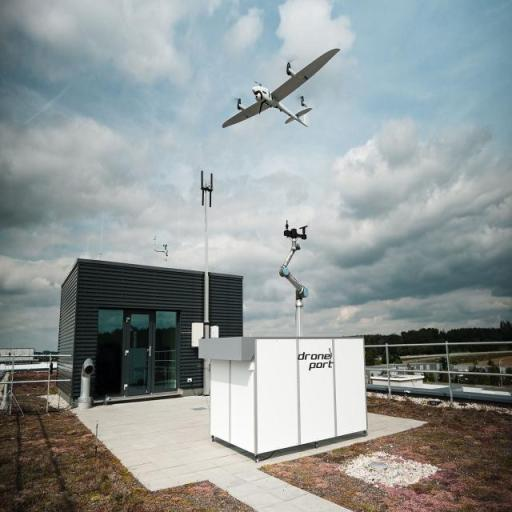uav: (202, 36, 341, 148)
